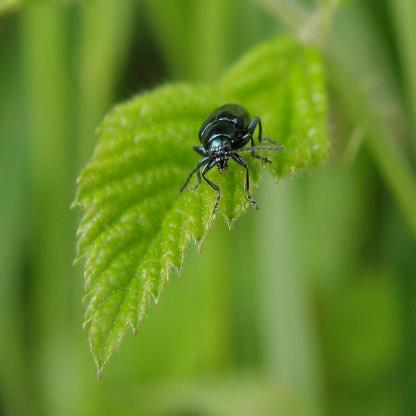beetle: (179, 99, 274, 217)
